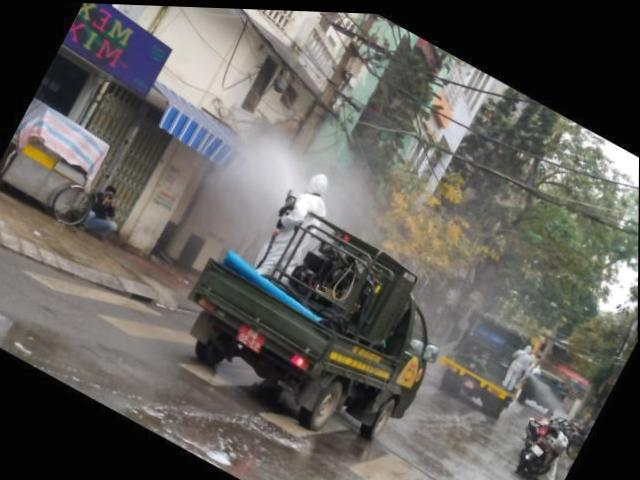License_Plate: (235, 323, 272, 357), (528, 443, 548, 458), (461, 379, 477, 395)
